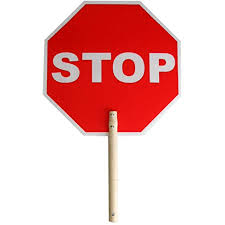SS: (43, 2, 181, 135)
